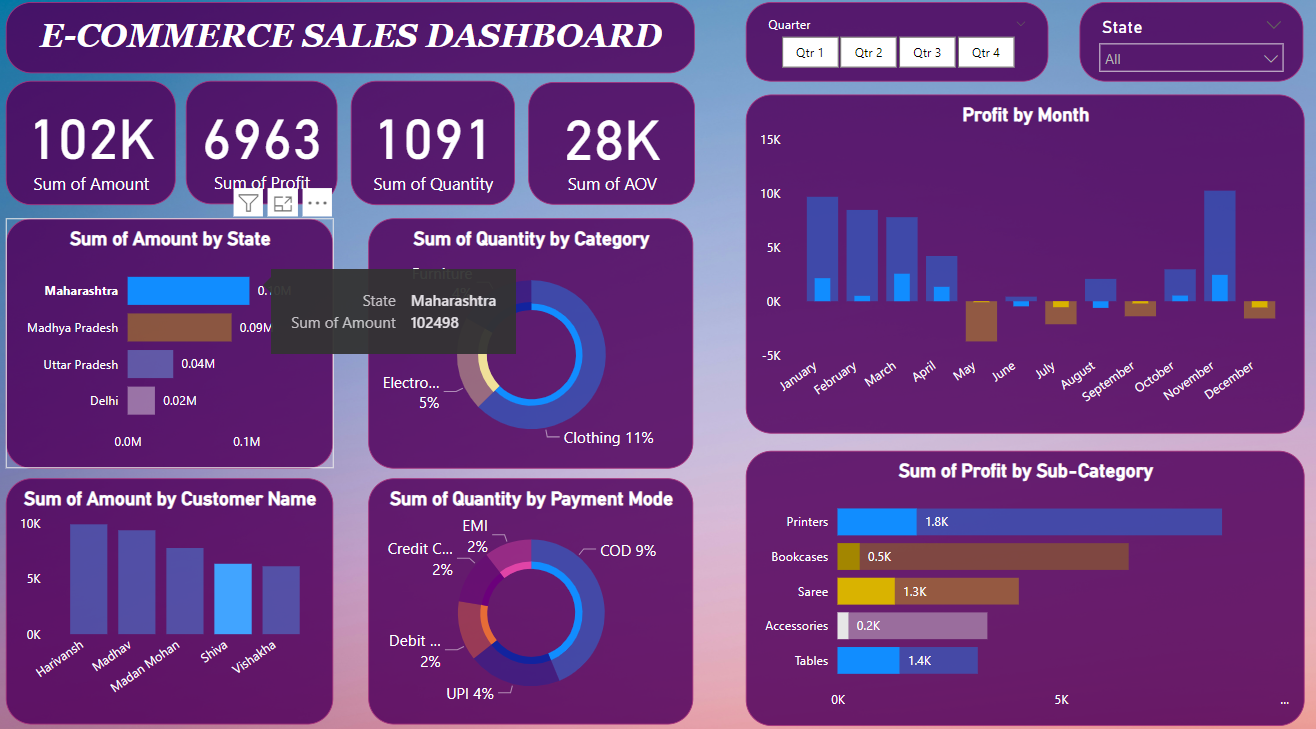

This screenshot's page, from the dashboard's own definition file:
{"tool":"powerbi","page":{"name":"Page 1","canvas":[1280,720],"ordinal":0},"visuals":[{"type":"textbox","box":[13.3,14.5,664.5,68.7],"z":0},{"type":"columnChart","title":"Profit by Month","fields":{"Category":["Orders.Order Date.Variation.Date Hierarchy.Month"],"Y":["Sum(Details.Profit)"]},"box":[727.2,103.7,539.1,326.8],"z":1000},{"type":"barChart","fields":{"Category":["Details.Sub-Category"],"Y":["Sum(Details.Profit)"]},"box":[726,445,539.1,266.5],"z":2000},{"type":"donutChart","fields":{"Category":["Details.Category"],"Y":["Sum(Details.Quantity)"]},"box":[363,223.1,313.6,241.2],"z":3000},{"type":"donutChart","title":"Sum of Quantity by Payment Mode","fields":{"Y":["Sum(Details.Quantity)"],"Category":["Details.PaymentMode"]},"box":[362.5,473.9,313.6,238.6],"z":4000},{"type":"card","fields":{"Values":["Sum(Details.Amount)"]},"box":[13,91,164,120],"z":5000},{"type":"card","fields":{"Values":["Sum(Details.Quantity)"]},"box":[346,90,158,120],"z":6000},{"type":"card","fields":{"Values":["Sum(Details.Profit)"]},"box":[187,91,146,119],"z":7000},{"type":"card","fields":{"Values":["Sum(Details.AOV)"]},"box":[517,92,161,118],"z":8000},{"type":"barChart","fields":{"Category":["Orders.State"],"Y":["Sum(Details.Amount)"]},"box":[13.3,223.1,316,241.2],"z":9000},{"type":"columnChart","title":"Sum of Amount by Customer Name","fields":{"Category":["Orders.CustomerName"],"Y":["Sum(Details.Amount)"]},"box":[13.6,473.9,315.9,238.6],"z":10000},{"type":"slicer","fields":{"Values":["Orders.Order Date.Variation.Date Hierarchy.Quarter"]},"box":[727.2,14.5,291.9,77.2],"z":11000},{"type":"slicer","fields":{"Values":["Orders.State"]},"box":[1049.2,14.5,215.9,77.2],"z":12000}]}

Visuals, with their boxes in screenshot pixels (x1, y1, x2, y2), scaled from the page's 1280x720 canvas onto the 1316x729 screenshot:
textbox: select_region(14, 15, 697, 84)
"Profit by Month" columnChart: select_region(748, 105, 1302, 436)
barChart - Details.Sub-Category x Sum(Details.Profit): select_region(746, 451, 1301, 720)
donutChart - Details.Category x Sum(Details.Quantity): select_region(373, 226, 696, 470)
"Sum of Quantity by Payment Mode" donutChart: select_region(373, 480, 695, 721)
card - Sum(Details.Amount): select_region(13, 92, 182, 214)
card - Sum(Details.Quantity): select_region(356, 91, 518, 213)
card - Sum(Details.Profit): select_region(192, 92, 342, 213)
card - Sum(Details.AOV): select_region(532, 93, 697, 213)
barChart - Orders.State x Sum(Details.Amount): select_region(14, 226, 339, 470)
"Sum of Amount by Customer Name" columnChart: select_region(14, 480, 339, 721)
slicer - Orders.Order Date.Variation.Date Hierarchy.Quarter: select_region(748, 15, 1048, 93)
slicer - Orders.State: select_region(1079, 15, 1301, 93)
